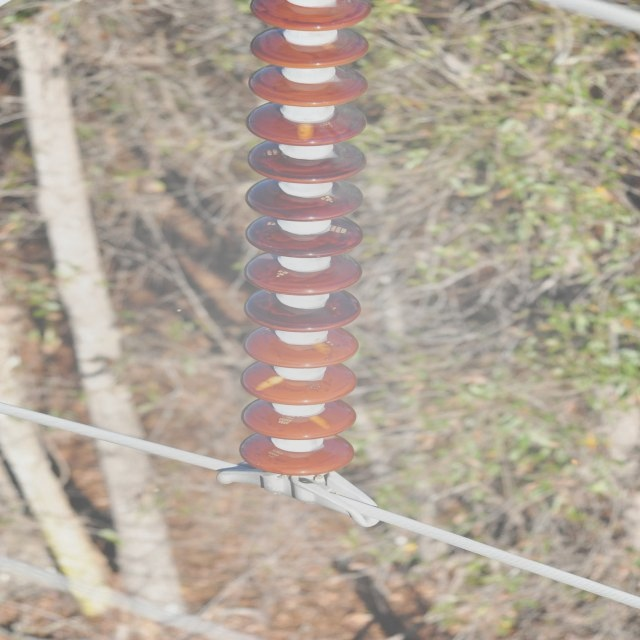insulator: (234, 0, 376, 472)
